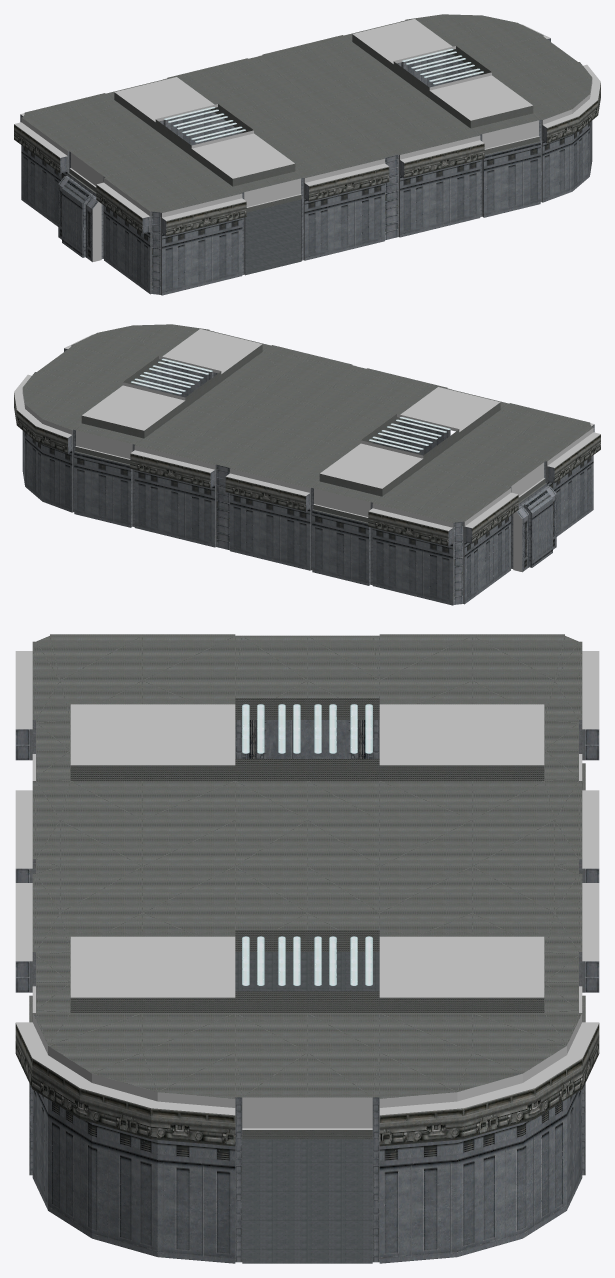
File: poi_all_impl_bunker_small_outpost_s01_r41_antechamber_mesh.fbx
3 views of the same model, one above another, from view 1: azimuth 30°, elevation 25°; view 2: azimuth 150°, elevation 25°; view 3: azimuth 270°, elevation 25° (orthographic). The views are drawn at different scales.
Parts seen in each view (by area): view 1: mesh_node; view 2: mesh_node; view 3: mesh_node.
Part boxes in pixels (bbox=[...]): mesh_node: bbox=[14, 14, 600, 295]; mesh_node: bbox=[14, 324, 600, 605]; mesh_node: bbox=[15, 634, 599, 1263].
Bounding box in the file's own units: 33.4 × 6 × 17.
